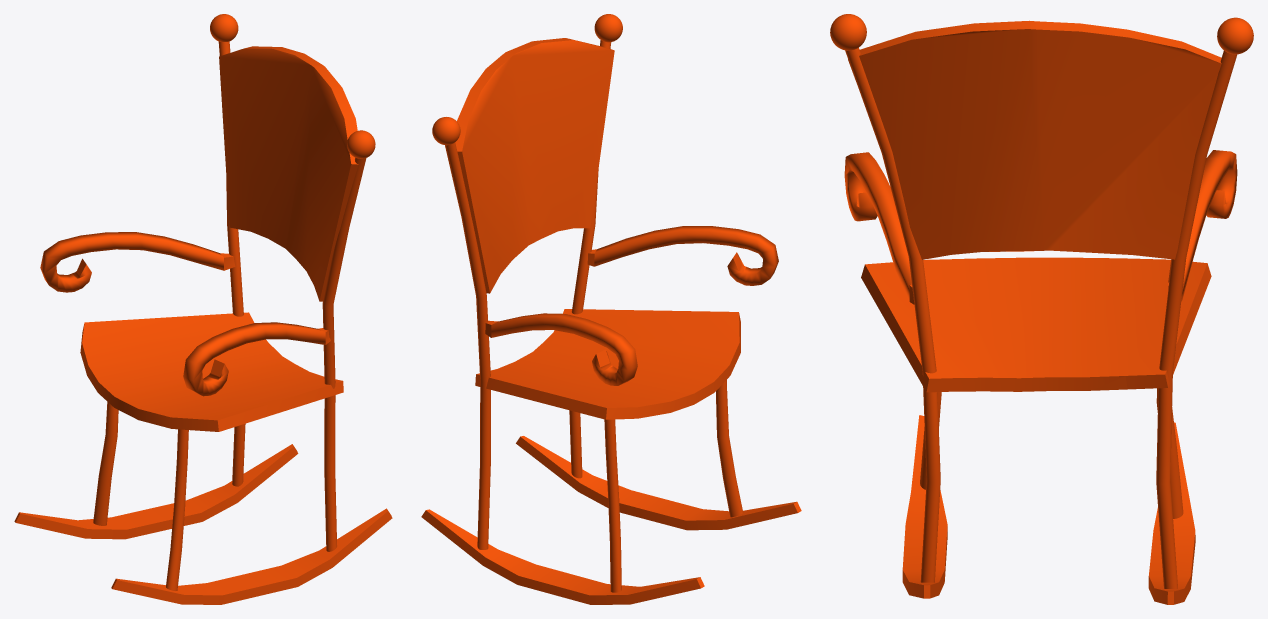
File: mecedora.obj
3 views of the same model, side by side, from view 1: azimuth 30°, elevation 25°; view 2: azimuth 150°, elevation 25°; view 3: azimuth 270°, elevation 25° (orthographic). The views are drawn at different scales.
Parts seen in each view (by area): view 1: silla:Modelgrouppasted__polySurface71; view 2: silla:Modelgrouppasted__polySurface71; view 3: silla:Modelgrouppasted__polySurface71.
Part boxes in pixels (bbox=[...]): silla:Modelgrouppasted__polySurface71: bbox=[14, 14, 392, 604]; silla:Modelgrouppasted__polySurface71: bbox=[421, 14, 801, 604]; silla:Modelgrouppasted__polySurface71: bbox=[830, 14, 1253, 604].
Bounding box in the file's own units: 0.8388 × 1.34 × 0.8423.
Materials: 1 (1 with a texture image).
